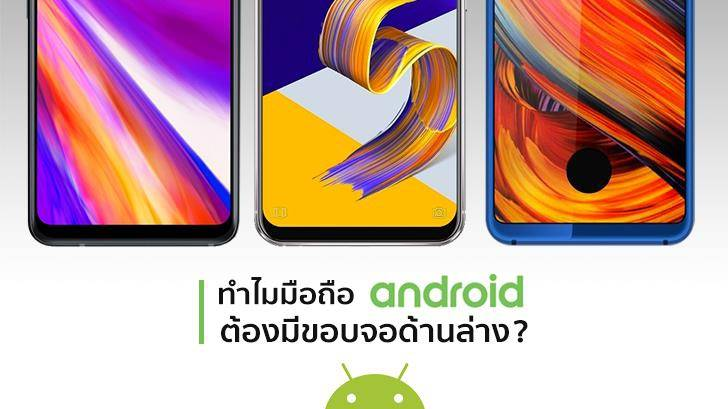Phone: (26, 1, 241, 249), (252, 1, 467, 249), (485, 1, 698, 247)
